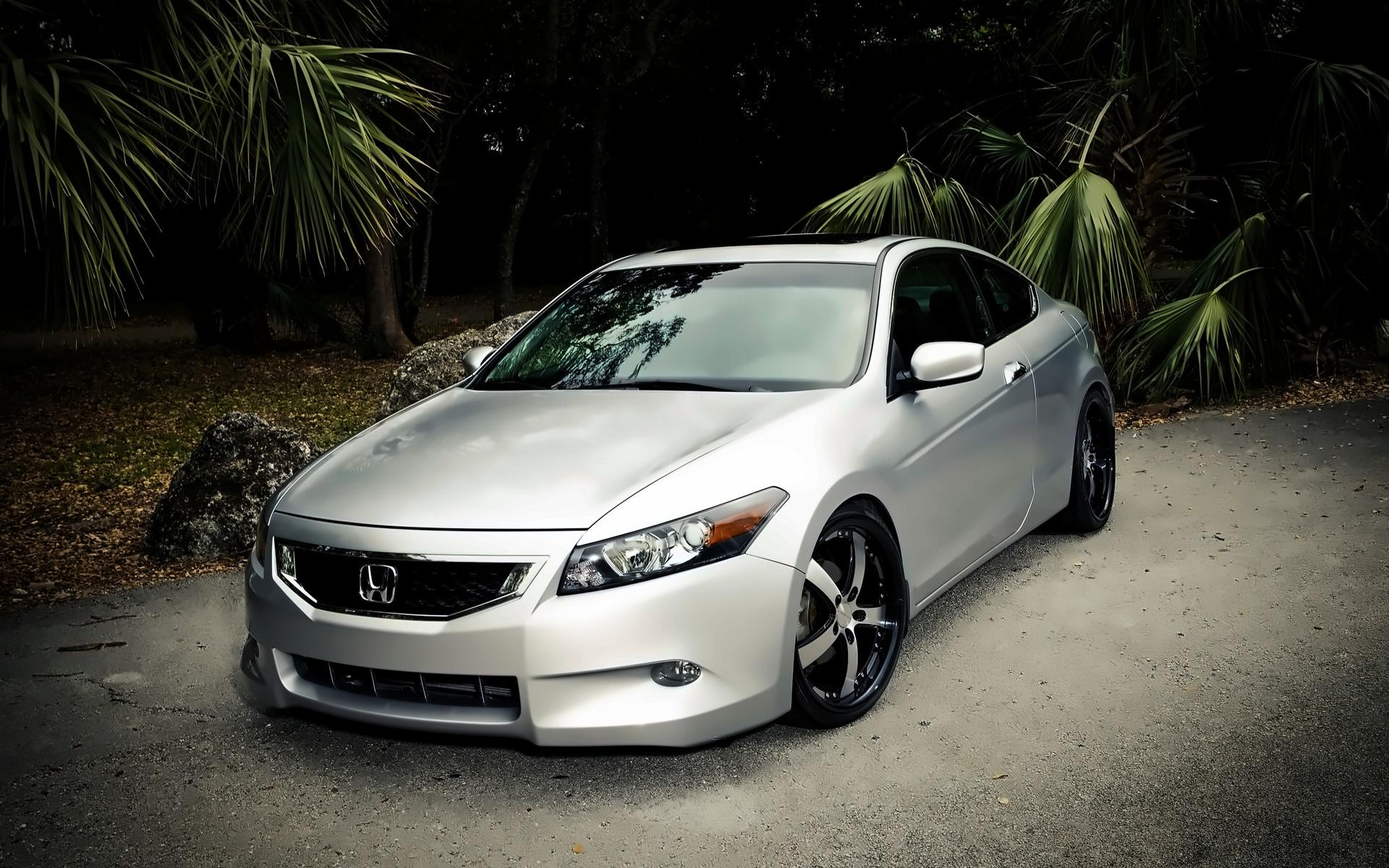Car hood: (263, 381, 854, 533)
Fender - -F-L-: (779, 352, 915, 617)
Fender - -R-L-: (990, 266, 1127, 525)
Headlight - -L-: (559, 486, 792, 602)
Passenger-s door - -F-L-: (225, 517, 809, 755), (872, 229, 1045, 616)
Side bumper - -L-: (895, 470, 1087, 661)
Side mirror - -L-: (891, 337, 989, 396)
Side mirror - -R-: (459, 340, 499, 390)
